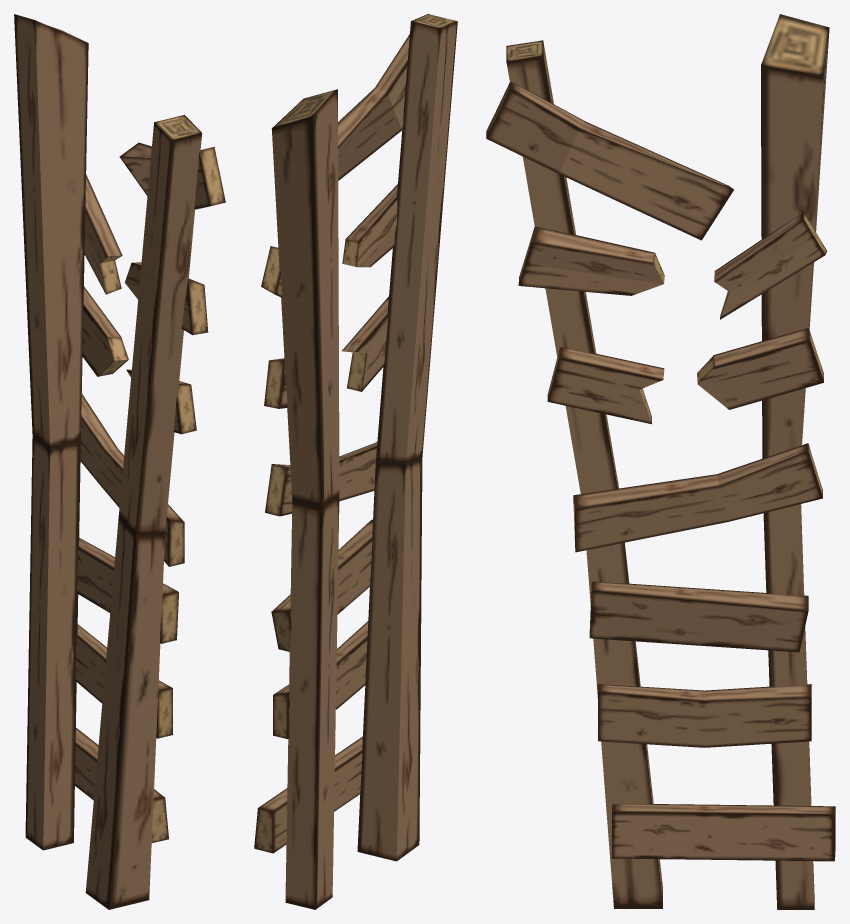
The model's file is drabina1_uszkodzon.fbx.
3 views of the same model, side by side, from view 1: azimuth 30°, elevation 25°; view 2: azimuth 150°, elevation 25°; view 3: azimuth 270°, elevation 25° (orthographic). The views are drawn at different scales.
Visible parts, largest first — view 1: drabina1 uszkodzon; view 2: drabina1 uszkodzon; view 3: drabina1 uszkodzon.
Part boxes in pixels (x1,y1,x2,y2): drabina1 uszkodzon: [14, 14, 225, 909]; drabina1 uszkodzon: [254, 14, 457, 909]; drabina1 uszkodzon: [486, 14, 835, 909].
Bounding box in the file's own units: 50.29 × 408 × 147.
1 material, 1 textured.
